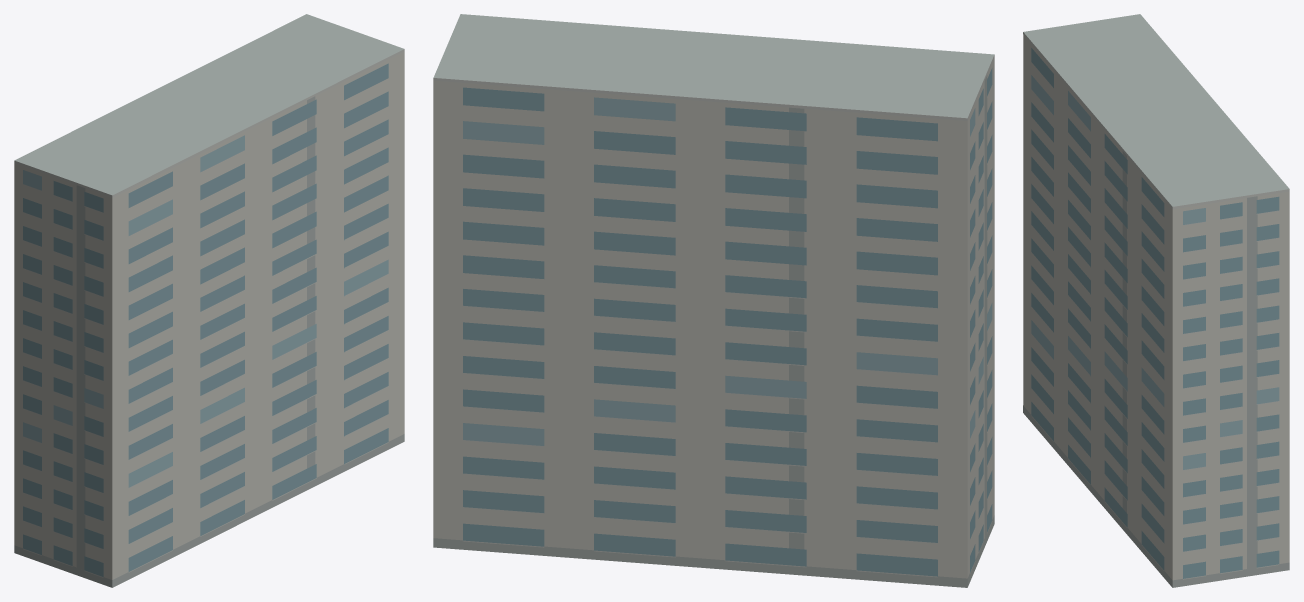
File: residential-759c97db-0440-4ff3-a3bc-16166efc9fb6.glb
The picture shows the model from 3 angles, left to right: view 1: azimuth 30°, elevation 25°; view 2: azimuth 150°, elevation 25°; view 3: azimuth 270°, elevation 25°; orthographic projection. The views are drawn at different scales.
Visible parts, largest first — view 1: residential-759c97db-0440-4ff3-a3bc-16166efc9fb6.tmp; view 2: residential-759c97db-0440-4ff3-a3bc-16166efc9fb6.tmp; view 3: residential-759c97db-0440-4ff3-a3bc-16166efc9fb6.tmp.
Boxes of the visible parts, x1,y1,x2,y2 form: residential-759c97db-0440-4ff3-a3bc-16166efc9fb6.tmp: (14,14,404,587); residential-759c97db-0440-4ff3-a3bc-16166efc9fb6.tmp: (433,14,994,587); residential-759c97db-0440-4ff3-a3bc-16166efc9fb6.tmp: (1023,14,1289,587).
Size of the model in its own units: 43.43 by 40 by 25.37.
